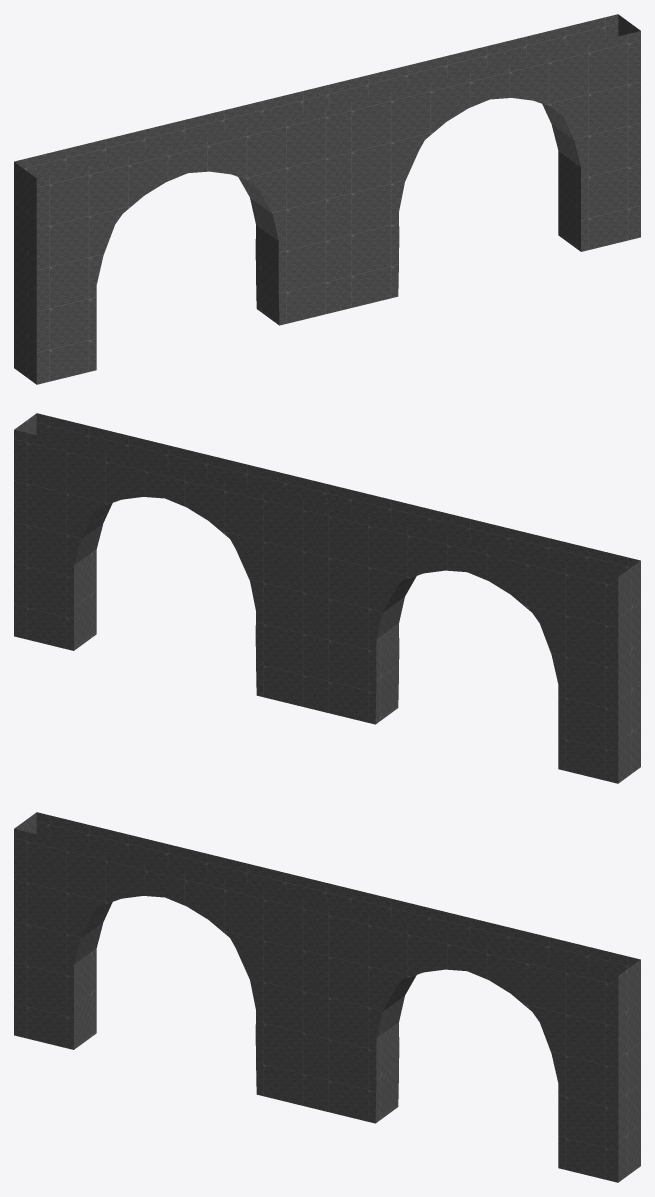
Rendered from Archway 1.fbx.
The picture shows the model from 3 angles, top to bottom: view 1: azimuth 30°, elevation 25°; view 2: azimuth 150°, elevation 25°; view 3: azimuth 330°, elevation 25°; orthographic projection.
Visible parts, largest first — view 1: BalconyArchway001; view 2: BalconyArchway001; view 3: BalconyArchway001.
Part boxes in pixels (x1=…): BalconyArchway001: x1=14, y1=14, x2=640, y2=384; BalconyArchway001: x1=14, y1=413, x2=640, y2=783; BalconyArchway001: x1=14, y1=812, x2=640, y2=1182.
Size of the model in its own units: 603 by 197 by 39.37.
